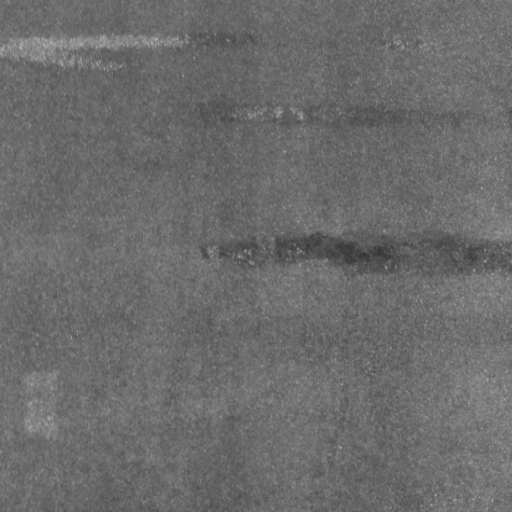hengxianghuashang: (201, 230, 512, 277), (2, 29, 257, 73), (198, 97, 498, 130)
